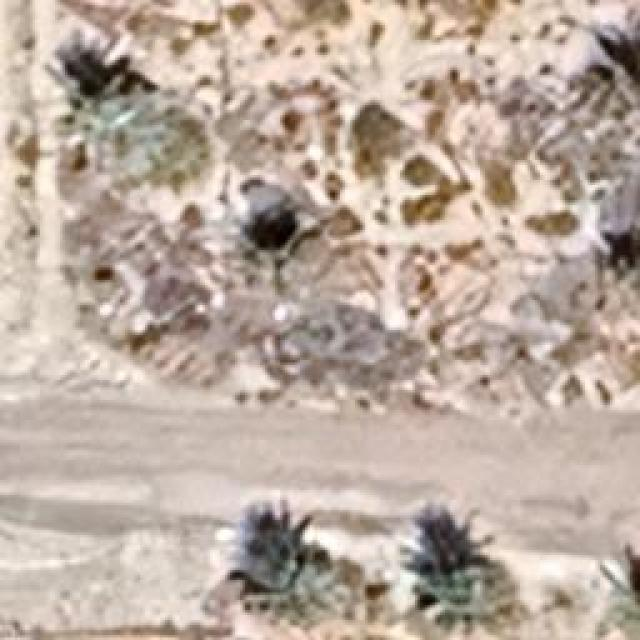PalmTree: (389, 500, 509, 638), (225, 501, 345, 631), (41, 68, 159, 158), (572, 26, 640, 124), (587, 198, 640, 306), (592, 547, 639, 640)
